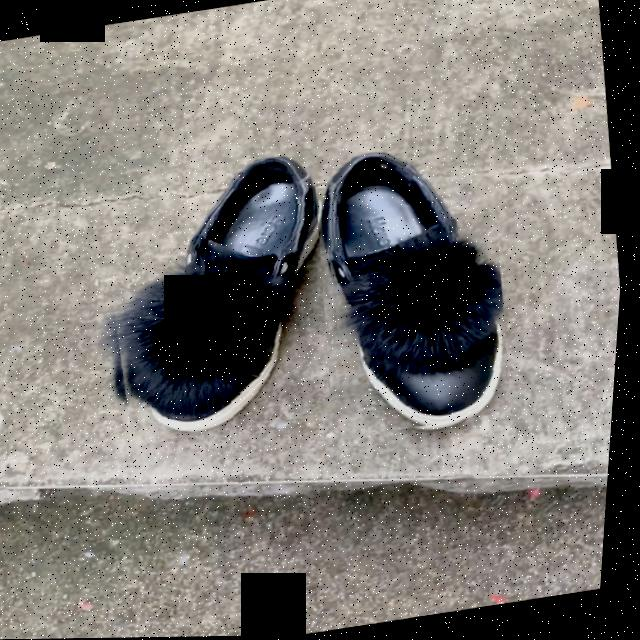shoe: (121, 157, 321, 438), (328, 155, 509, 425)
